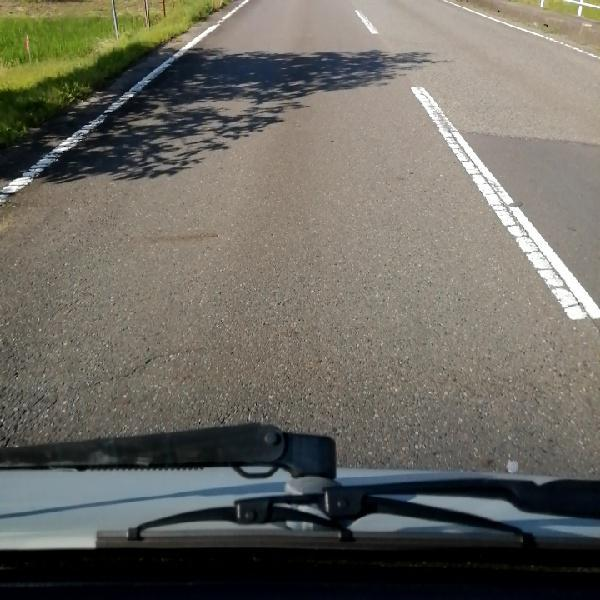D10: (20, 343, 218, 399)
